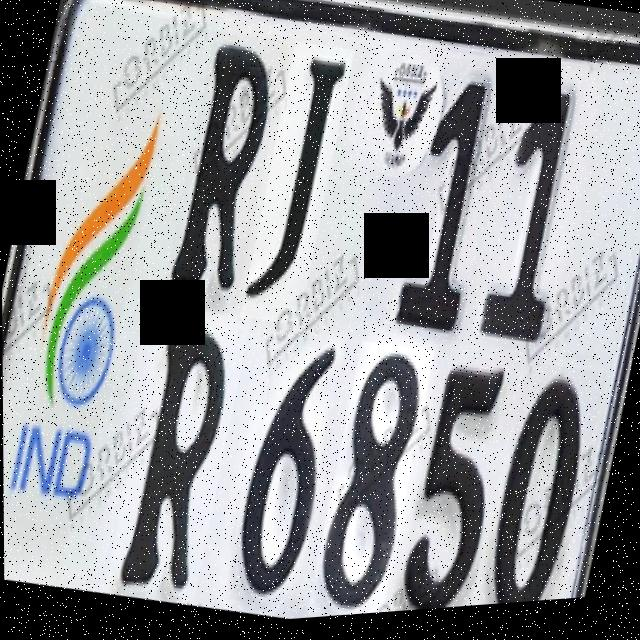0: (471, 365, 607, 613)
1: (385, 58, 521, 354), (467, 75, 601, 371)
5: (388, 355, 520, 618)
6: (222, 330, 353, 617)
8: (304, 343, 435, 622)
J: (238, 43, 356, 333)
R: (100, 301, 252, 614), (159, 29, 291, 314)
